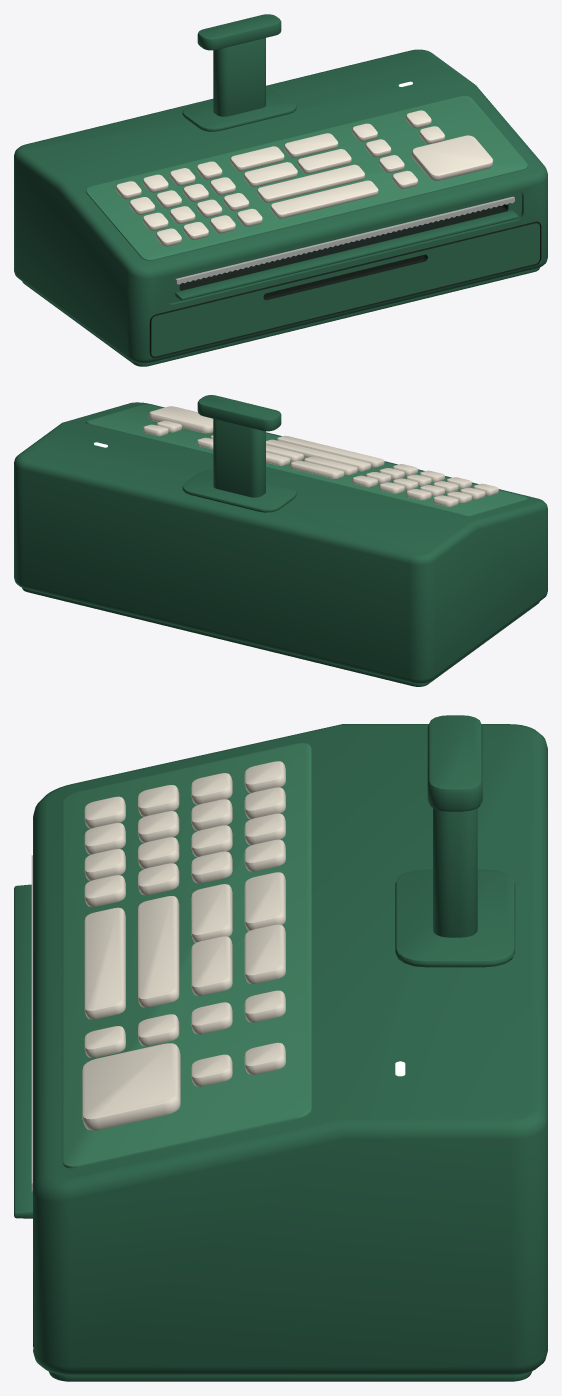
Rendered from receipt-machine.glb.
The picture shows the model from 3 angles, top to bottom: view 1: azimuth 30°, elevation 25°; view 2: azimuth 150°, elevation 25°; view 3: azimuth 270°, elevation 25°; orthographic projection. The views are drawn at different scales.
Visible parts, largest first — view 1: body, keys, pole, btn; view 2: body, pole, keys, btn; view 3: body, keys, pole, btn.
Boxes of the visible parts, bbox=[...] form: body: bbox=[14, 49, 547, 366]; keys: bbox=[116, 110, 445, 246]; pole: bbox=[182, 14, 296, 131]; btn: bbox=[411, 135, 493, 180]; body: bbox=[14, 402, 547, 686]; pole: bbox=[182, 395, 296, 512]; keys: bbox=[142, 420, 498, 506]; btn: bbox=[148, 406, 213, 433]; body: bbox=[14, 724, 547, 1381]; keys: bbox=[84, 761, 285, 1086]; pole: bbox=[395, 715, 515, 967]; btn: bbox=[82, 1043, 180, 1130].
Size of the model in its own units: 560 by 286 by 311.
